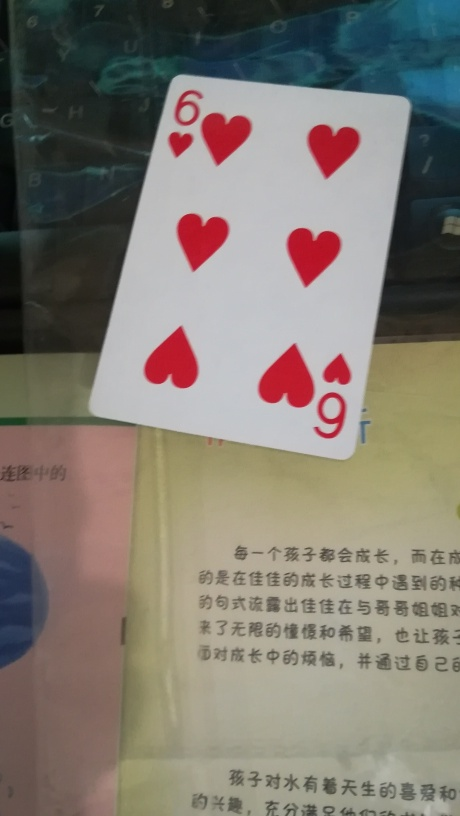hx 6: (91, 75, 411, 468)
